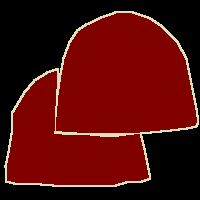hat: (54, 11, 198, 134), (5, 68, 150, 186)
